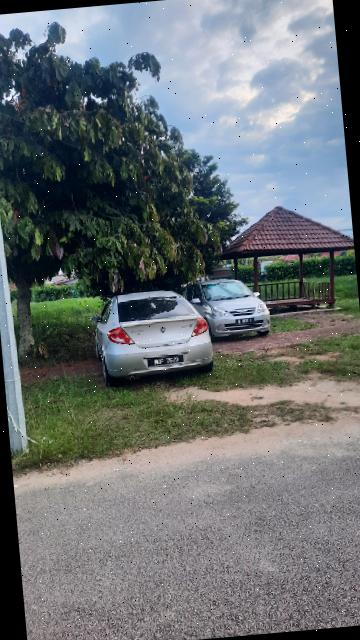License_Plate: (149, 353, 189, 368), (237, 316, 260, 328)
car: (85, 284, 219, 390), (184, 274, 276, 345)
